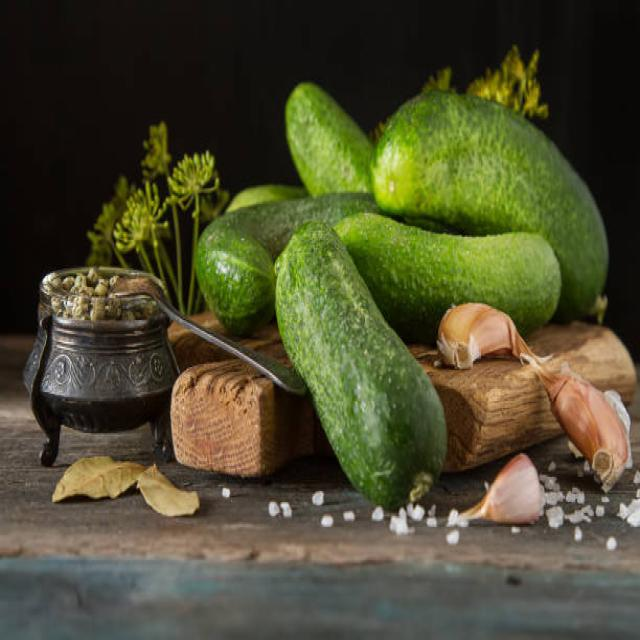cucumber: (368, 88, 610, 308), (276, 208, 448, 507), (330, 211, 562, 334)
